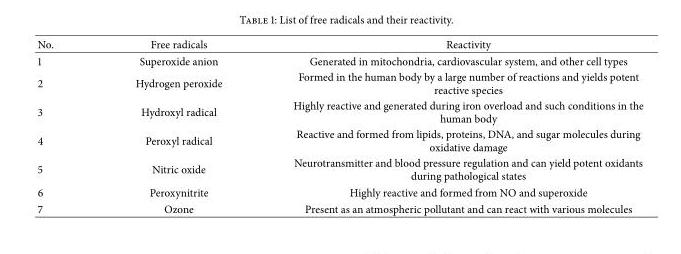table: (36, 36, 642, 215)
table column: (256, 36, 642, 215), (93, 36, 256, 215), (36, 36, 93, 215)
table column header: (36, 36, 642, 52)
table row: (36, 68, 642, 97), (36, 125, 642, 154), (36, 154, 642, 183), (36, 97, 642, 125), (36, 183, 642, 200), (36, 36, 642, 52), (36, 52, 642, 68), (36, 200, 642, 215)
